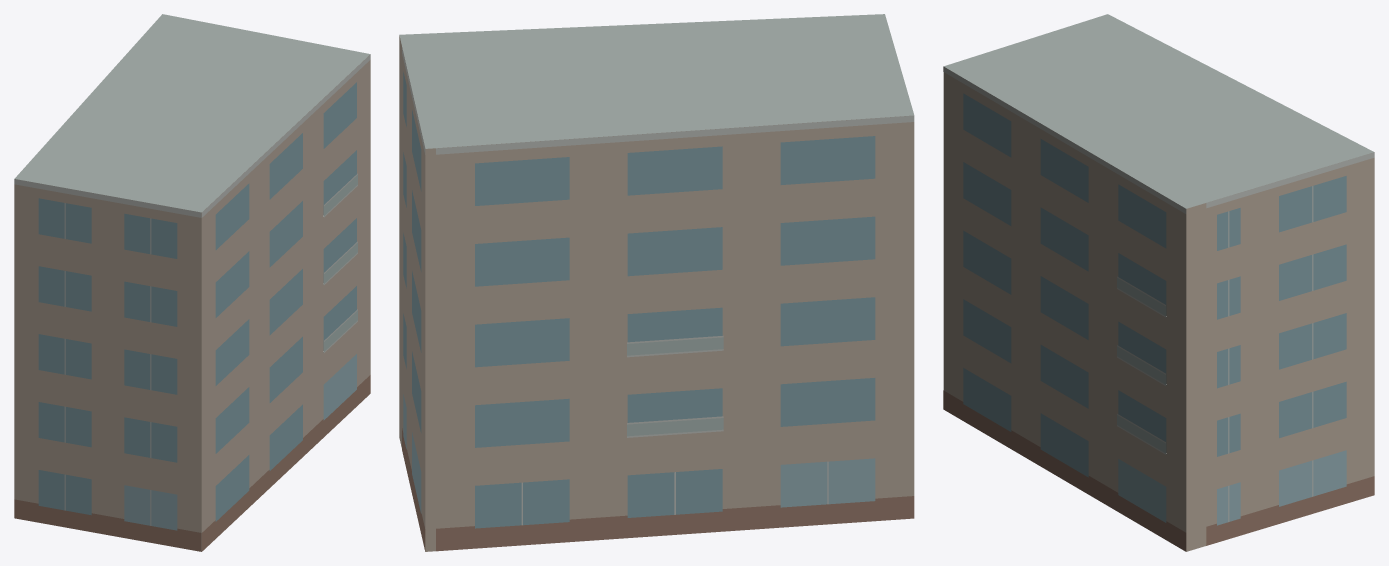
The model's file is survey-upis-32916014.glb.
3 renders of one model, left to right at view 1: azimuth 30°, elevation 25°; view 2: azimuth 150°, elevation 25°; view 3: azimuth 270°, elevation 25°, orthographic. The views are drawn at different scales.
Visible parts, largest first — view 1: survey-upis-32916014.tmp; view 2: survey-upis-32916014.tmp; view 3: survey-upis-32916014.tmp.
Boxes of the visible parts, left/top/right/bottom form: survey-upis-32916014.tmp: left=14, top=14, right=370, bottom=551; survey-upis-32916014.tmp: left=399, top=14, right=914, bottom=551; survey-upis-32916014.tmp: left=943, top=14, right=1374, bottom=551.
Size of the model in its own units: 18.4 by 15.1 by 17.2.
